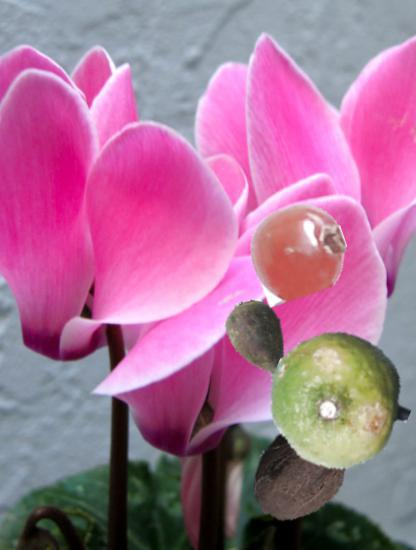Beetroot: (213, 293, 310, 390)
Cocos: (246, 419, 354, 527)
Limes: (268, 331, 409, 472)
Redcurrant: (251, 203, 346, 298)
